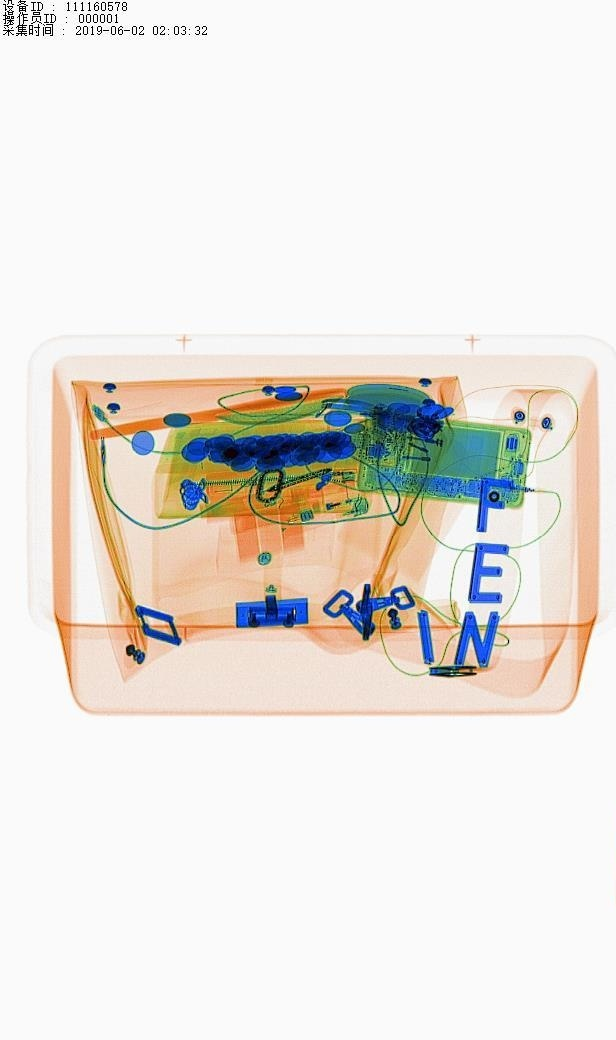NonmetallicFire: (275, 484, 376, 543)
